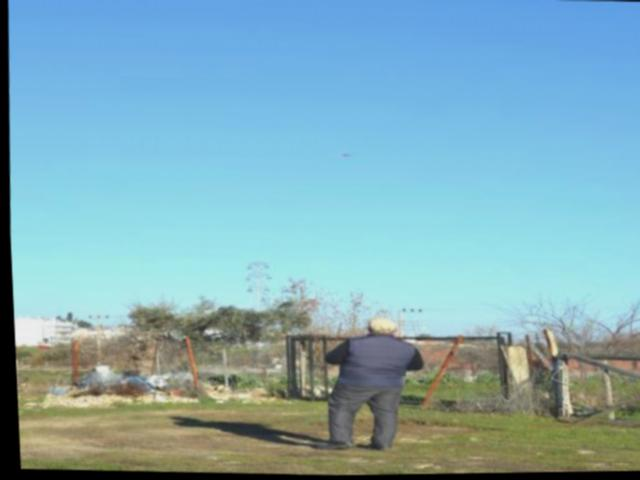iha: (323, 152, 362, 159)
